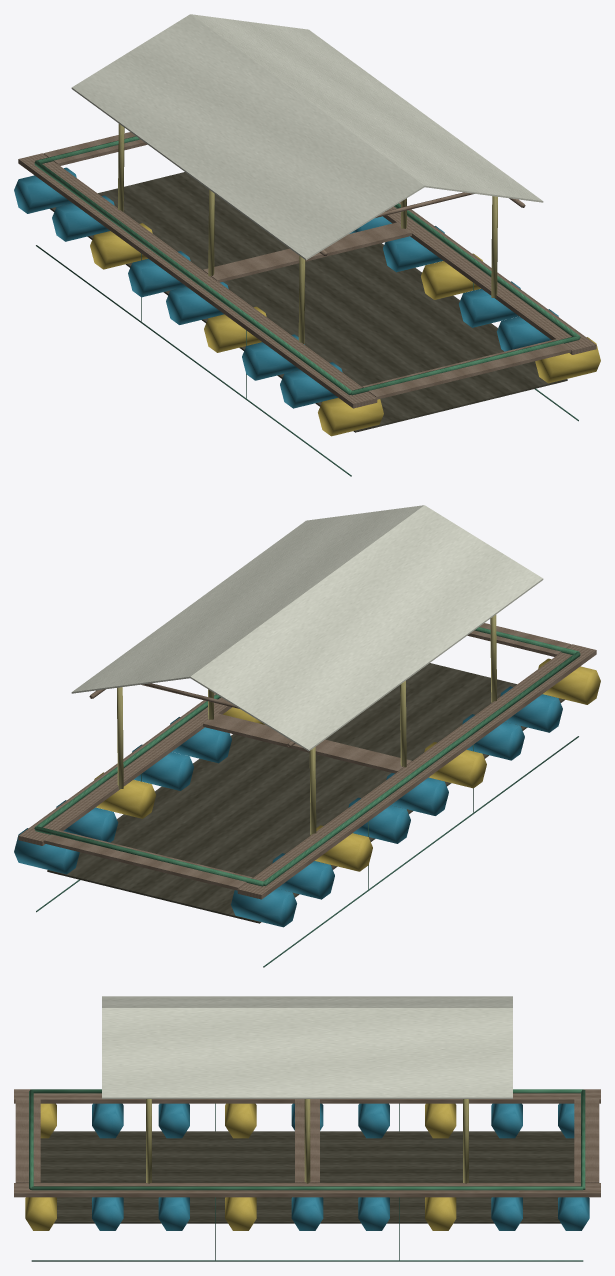
File: bung-raft-3-white-mid.glb
3 views of the same model, one above another, from view 1: azimuth 30°, elevation 25°; view 2: azimuth 150°, elevation 25°; view 3: azimuth 270°, elevation 25° (orthographic). The views are drawn at different scales.
Visible parts, largest first — view 1: bung-raft-3-white-mid; view 2: bung-raft-3-white-mid; view 3: bung-raft-3-white-mid.
Part boxes in pixels (x1=…): bung-raft-3-white-mid: x1=14, y1=14, x2=600, y2=476; bung-raft-3-white-mid: x1=14, y1=505, x2=600, y2=967; bung-raft-3-white-mid: x1=14, y1=996, x2=600, y2=1261.
Bounding box in the file's own units: 4.94 × 4.17 × 10.8.
1 material, 1 textured.
